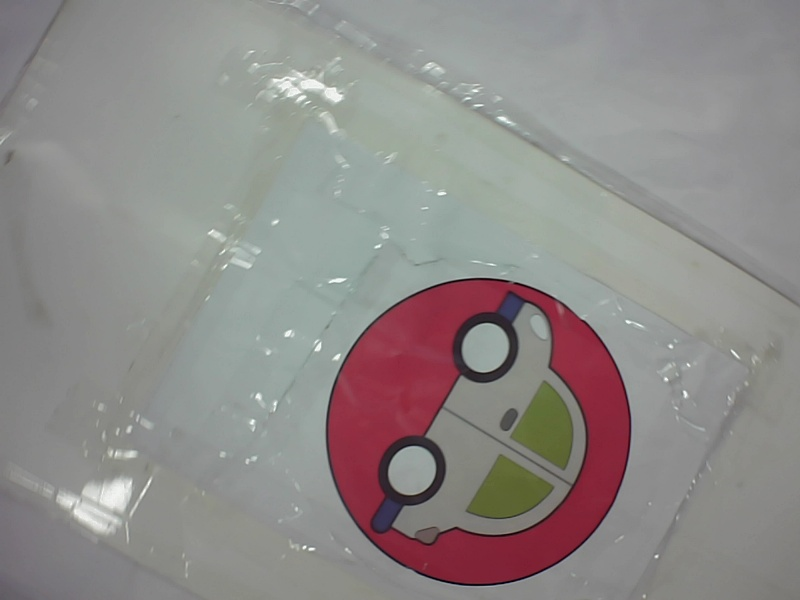areaC: (320, 267, 640, 588)
